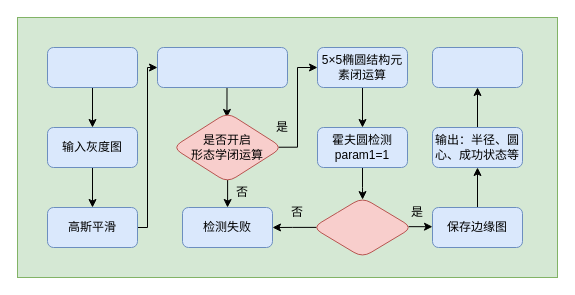
Some shapes in this 575 by 295 pixel diagram are drawn without their labels. The box of each missing label's shape, as (x1, y1, x2, y2) in pixels:
Canny边缘检测 canny_low, canny_high: (156, 46, 288, 88)
开始: (46, 46, 138, 88)
是否检测成功: (312, 196, 412, 258)
结束: (432, 46, 522, 88)
